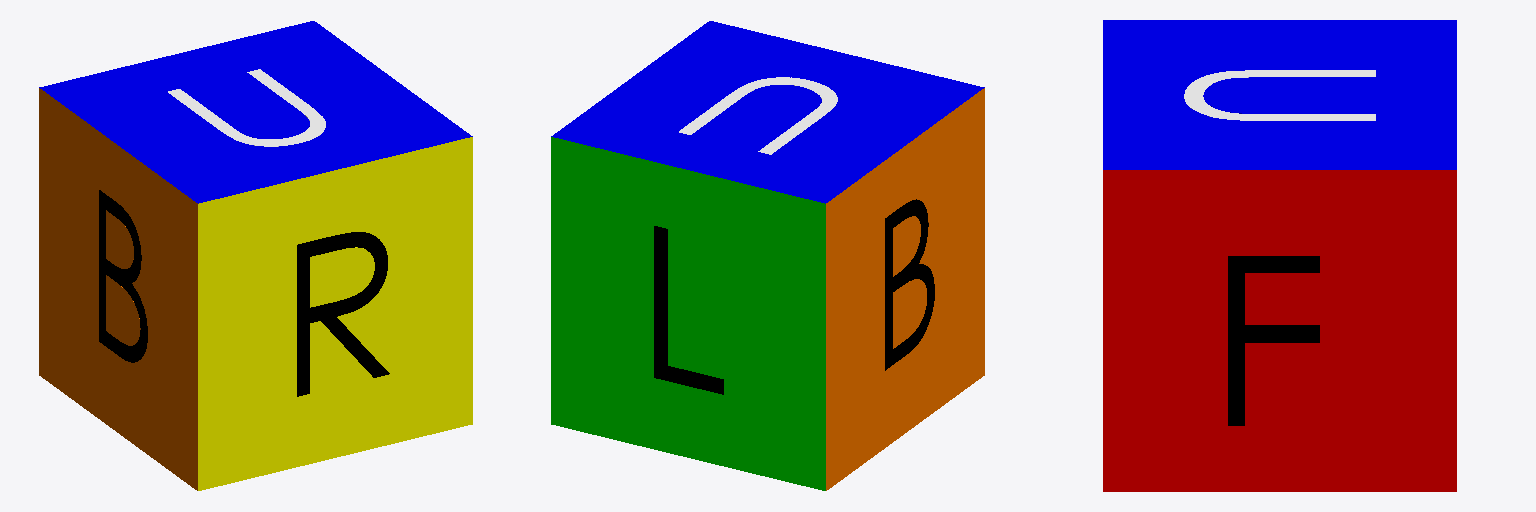
robot.urdf — dice:
<?xml version="1.0" encoding="utf-8"?>
<!-- This URDF was automatically created by SolidWorks to URDF Exporter! Originally created by [author] ([email redacted]) 
     Commit Version: 1.6.0-1-g15f4949  Build Version: 1.6.7594.29634
     For more information, please see http://wiki.ros.org/sw_urdf_exporter -->
<robot
  name="dice">
  <link
    name="base_link">
    <inertial>
      <origin
        xyz="-2.66766240138851E-18 0 1.73472347597681E-18"
        rpy="0 0 0" />
      <mass
        value="0.001" />
      <inertia
        ixx="1.66666666666667E-08"
        ixy="-8.67077671120512E-25"
        ixz="-3.44041988923179E-25"
        iyy="1.66666666666667E-08"
        iyz="-3.78038207477916E-25"
        izz="1.66666666666667E-08" />
    </inertial>
    <visual>
      <origin
        xyz="0 0 0"
        rpy="0 0 0" />
      <geometry>
        <mesh
          filename="package://dice/meshes/base_link.STL" />
      </geometry>
      <material
        name="">
        <color
          rgba="0.792156862745098 0.819607843137255 0.933333333333333 1" />
      </material>
    </visual>
    <collision>
      <origin
        xyz="0 0 0"
        rpy="0 0 0" />
      <geometry>
        <mesh
          filename="package://dice/meshes/base_link.STL" />
      </geometry>
    </collision>
  </link>
  <link
    name="link_F">
    <inertial>
      <origin
        xyz="-9.50512573988481E-05 4.92688674394559E-05 -0.00351193570807691"
        rpy="0 0 0" />
      <mass
        value="0.00411752113638231" />
      <inertia
        ixx="2.24591411192829E-07"
        ixy="4.1775457465822E-10"
        ixz="3.96046905828484E-10"
        iyy="2.27172193413413E-07"
        iyz="-2.05286947664401E-10"
        izz="3.96928952994179E-07" />
    </inertial>
    <visual>
      <origin
        xyz="0 0 0"
        rpy="0 0 0" />
      <geometry>
        <mesh
          filename="package://dice/meshes/link_F.STL" />
      </geometry>
      <material
        name="red">
        <color
          rgba="1 0 0 1" />
      </material>
    </visual>
    <collision>
      <origin
        xyz="0 0 0"
        rpy="0 0 0" />
      <geometry>
        <mesh
          filename="package://dice/meshes/link_F.STL" />
      </geometry>
    </collision>
  </link>
  <joint
    name="joint_F"
    type="fixed">
    <origin
      xyz="0.015 0 0"
      rpy="-1.5707963267949 0 -1.5707963267949" />
    <parent
      link="base_link" />
    <child
      link="link_F" />
    <axis
      xyz="0 0 0" />
  </joint>
  <link
    name="link_letter_F">
    <inertial>
      <origin
        xyz="-0.00181350065894689 0.000940009906361396 -0.0025"
        rpy="0 0 0" />
      <mass
        value="0.000215812196951019" />
      <inertia
        ixx="4.74149938848785E-09"
        ixy="-8.049341101153E-10"
        ixz="1.38286838893634E-26"
        iyy="1.61444722525123E-09"
        iyz="-2.27586779268183E-25"
        izz="5.45672912644316E-09" />
    </inertial>
    <visual>
      <origin
        xyz="0 0 0"
        rpy="0 0 0" />
      <geometry>
        <mesh
          filename="package://dice/meshes/link_letter_F.STL" />
      </geometry>
      <material
        name="black">
        <color
          rgba="0 0 0 1" />
      </material>
    </visual>
    <collision>
      <origin
        xyz="0 0 0"
        rpy="0 0 0" />
      <geometry>
        <mesh
          filename="package://dice/meshes/link_letter_F.STL" />
      </geometry>
    </collision>
  </link>
  <joint
    name="joint_letter_F"
    type="fixed">
    <origin
      xyz="0 0 0"
      rpy="0 0 -3.14159265358979" />
    <parent
      link="link_F" />
    <child
      link="link_letter_F" />
    <axis
      xyz="0 0 0" />
  </joint>
  <link
    name="link_B">
    <inertial>
      <origin
        xyz="1.94927574249588E-05 -7.81931638434252E-05 0.00354516982610781"
        rpy="0 0 0" />
      <mass
        value="0.0039866290374869" />
      <inertia
        ixx="2.20094886421421E-07"
        ixy="2.78909724079855E-10"
        ixz="8.13467845835244E-11"
        iyy="2.25751803876546E-07"
        iyz="-3.25937949196092E-10"
        izz="3.91834477384909E-07" />
    </inertial>
    <visual>
      <origin
        xyz="0 0 0"
        rpy="0 0 0" />
      <geometry>
        <mesh
          filename="package://dice/meshes/link_B.STL" />
      </geometry>
      <material
        name="orange">
        <color
          rgba="1 0.498 0 1" />
      </material>
    </visual>
    <collision>
      <origin
        xyz="0 0 0"
        rpy="0 0 0" />
      <geometry>
        <mesh
          filename="package://dice/meshes/link_B.STL" />
      </geometry>
    </collision>
  </link>
  <joint
    name="joint_B"
    type="fixed">
    <origin
      xyz="-0.015 0 0"
      rpy="1.5707963267949 0 1.5707963267949" />
    <parent
      link="base_link" />
    <child
      link="link_B" />
    <axis
      xyz="0 0 0" />
  </joint>
  <link
    name="link_letter_B">
    <inertial>
      <origin
        xyz="0.000225151490672439 -0.000901444768498538 0.00250001505244807"
        rpy="0 0 0" />
      <mass
        value="0.000346813932855846" />
      <inertia
        ixx="8.99761241320047E-09"
        ixy="-3.52365205874907E-10"
        ixz="5.5591649616148E-15"
        iyy="3.62562344499346E-09"
        iyz="-2.57589182593363E-14"
        izz="1.11782203674508E-08" />
    </inertial>
    <visual>
      <origin
        xyz="0 0 0"
        rpy="0 0 0" />
      <geometry>
        <mesh
          filename="package://dice/meshes/link_letter_B.STL" />
      </geometry>
      <material
        name="black">
        <color
          rgba="0 0 0 1" />
      </material>
    </visual>
    <collision>
      <origin
        xyz="0 0 0"
        rpy="0 0 0" />
      <geometry>
        <mesh
          filename="package://dice/meshes/link_letter_B.STL" />
      </geometry>
    </collision>
  </link>
  <joint
    name="joint_letter_B"
    type="fixed">
    <origin
      xyz="0 0 0"
      rpy="0 0 3.14159265358979" />
    <parent
      link="link_B" />
    <child
      link="link_letter_B" />
    <axis
      xyz="0 0 0" />
  </joint>
  <link
    name="link_L">
    <inertial>
      <origin
        xyz="-7.26717053836479E-05 6.9109794379726E-05 0.00349907074228167"
        rpy="0 0 0" />
      <mass
        value="0.00417054217517258" />
      <inertia
        ixx="2.24579816896208E-07"
        ixy="3.68564469772318E-10"
        ixz="-3.02798772431858E-10"
        iyy="2.2799869045033E-07"
        iyz="2.8795747658216E-10"
        izz="3.97415726691221E-07" />
    </inertial>
    <visual>
      <origin
        xyz="0 0 0"
        rpy="0 0 0" />
      <geometry>
        <mesh
          filename="package://dice/meshes/link_L.STL" />
      </geometry>
      <material
        name="green">
        <color
          rgba="0 1 0 1" />
      </material>
    </visual>
    <collision>
      <origin
        xyz="0 0 0"
        rpy="0 0 0" />
      <geometry>
        <mesh
          filename="package://dice/meshes/link_L.STL" />
      </geometry>
    </collision>
  </link>
  <joint
    name="joint_L"
    type="fixed">
    <origin
      xyz="0 0.015 0"
      rpy="1.5707963267949 0 0" />
    <parent
      link="base_link" />
    <child
      link="link_L" />
    <axis
      xyz="0 0 0" />
  </joint>
  <link
    name="link_letter_L">
    <inertial>
      <origin
        xyz="-0.00186177440880996 -0.0017705219093871 -0.0025"
        rpy="0 0 0" />
      <mass
        value="0.00016279115816075" />
      <inertia
        ixx="4.47715992217448E-09"
        ixy="9.26120804927491E-10"
        ixz="3.19323213218057E-25"
        iyy="1.00222206440924E-09"
        iyz="-4.45706747723961E-26"
        izz="4.80108549424727E-09" />
    </inertial>
    <visual>
      <origin
        xyz="0 0 0"
        rpy="0 0 0" />
      <geometry>
        <mesh
          filename="package://dice/meshes/link_letter_L.STL" />
      </geometry>
      <material
        name="black">
        <color
          rgba="0 0 0 1" />
      </material>
    </visual>
    <collision>
      <origin
        xyz="0 0 0"
        rpy="0 0 0" />
      <geometry>
        <mesh
          filename="package://dice/meshes/link_letter_L.STL" />
      </geometry>
    </collision>
  </link>
  <joint
    name="joint_letter_L"
    type="fixed">
    <origin
      xyz="0 0 0"
      rpy="3.14159265358979 0 3.14159265358979" />
    <parent
      link="link_L" />
    <child
      link="link_letter_L" />
    <axis
      xyz="0 0 0" />
  </joint>
  <link
    name="link_R">
    <inertial>
      <origin
        xyz="4.07208019225084E-06 -9.46811327945319E-05 0.00354091263991495"
        rpy="0 0 0" />
      <mass
        value="0.0040028736788808" />
      <inertia
        ixx="2.21225318375563E-07"
        ixy="-1.72199688799733E-10"
        ixz="1.68852294481576E-11"
        iyy="2.25392434040849E-07"
        iyz="-3.94464690581226E-10"
        izz="3.92502204652984E-07" />
    </inertial>
    <visual>
      <origin
        xyz="0 0 0"
        rpy="0 0 0" />
      <geometry>
        <mesh
          filename="package://dice/meshes/link_R.STL" />
      </geometry>
      <material
        name="yellow">
        <color
          rgba="1 1 0 1" />
      </material>
    </visual>
    <collision>
      <origin
        xyz="0 0 0"
        rpy="0 0 0" />
      <geometry>
        <mesh
          filename="package://dice/meshes/link_R.STL" />
      </geometry>
    </collision>
  </link>
  <joint
    name="joint_R"
    type="fixed">
    <origin
      xyz="0 -0.015 0"
      rpy="1.5707963267949 0 3.14159265358979" />
    <parent
      link="base_link" />
    <child
      link="link_R" />
    <axis
      xyz="0 0 0" />
  </joint>
  <link
    name="link_letter_R">
    <inertial>
      <origin
        xyz="4.84262186075055E-05 0.00114631655590035 -0.00249997381541772"
        rpy="0 0 0" />
      <mass
        value="0.000330397797517397" />
      <inertia
        ixx="7.71637305365668E-09"
        ixy="-1.51008081448684E-10"
        ixz="-3.05343836971532E-14"
        iyy="4.01814143157033E-09"
        iyz="-7.66018160442713E-14"
        izz="1.03577451336102E-08" />
    </inertial>
    <visual>
      <origin
        xyz="0 0 0"
        rpy="0 0 0" />
      <geometry>
        <mesh
          filename="package://dice/meshes/link_letter_R.STL" />
      </geometry>
      <material
        name="black">
        <color
          rgba="0 0 0 1" />
      </material>
    </visual>
    <collision>
      <origin
        xyz="0 0 0"
        rpy="0 0 0" />
      <geometry>
        <mesh
          filename="package://dice/meshes/link_letter_R.STL" />
      </geometry>
    </collision>
  </link>
  <joint
    name="joint_letter_R"
    type="fixed">
    <origin
      xyz="0 0 0"
      rpy="-3.14159265358979 0 3.14159265358979" />
    <parent
      link="link_R" />
    <child
      link="link_letter_R" />
    <axis
      xyz="0 0 0" />
  </joint>
  <link
    name="link_U">
    <inertial>
      <origin
        xyz="3.26036309539202E-06 5.24661179217773E-05 0.00352418792456442"
        rpy="0 0 0" />
      <mass
        value="0.00406827782939128" />
      <inertia
        ixx="2.22348800183004E-07"
        ixy="-4.87811881417785E-12"
        ixz="1.34925868413748E-11"
        iyy="2.24867386424086E-07"
        iyz="2.18716156107312E-10"
        izz="3.92688856232812E-07" />
    </inertial>
    <visual>
      <origin
        xyz="0 0 0"
        rpy="0 0 0" />
      <geometry>
        <mesh
          filename="package://dice/meshes/link_U.STL" />
      </geometry>
      <material
        name="blue">
        <color
          rgba="0 0 1 1" />
      </material>
    </visual>
    <collision>
      <origin
        xyz="0 0 0"
        rpy="0 0 0" />
      <geometry>
        <mesh
          filename="package://dice/meshes/link_U.STL" />
      </geometry>
    </collision>
  </link>
  <joint
    name="joint_U"
    type="fixed">
    <origin
      xyz="0 0 0.015"
      rpy="-3.14159265358979 0 3.14159265358979" />
    <parent
      link="base_link" />
    <child
      link="link_U" />
    <axis
      xyz="0 0 0" />
  </joint>
  <link
    name="link_letter_U">
    <inertial>
      <origin
        xyz="4.99776081315758E-05 -0.000805769148246406 -0.00250003965080142"
        rpy="0 0 0" />
      <mass
        value="0.00026506309406237" />
      <inertia
        ixx="6.95135122252641E-09"
        ixy="-1.65877323851595E-11"
        ixz="2.35461602000937E-14"
        iyy="4.61401901538874E-09"
        iyz="-3.97395234832372E-14"
        izz="1.04609430636761E-08" />
    </inertial>
    <visual>
      <origin
        xyz="0 0 0"
        rpy="0 0 0" />
      <geometry>
        <mesh
          filename="package://dice/meshes/link_letter_U.STL" />
      </geometry>
      <material
        name="white">
        <color
          rgba="1 1 1 1" />
      </material>
    </visual>
    <collision>
      <origin
        xyz="0 0 0"
        rpy="0 0 0" />
      <geometry>
        <mesh
          filename="package://dice/meshes/link_letter_U.STL" />
      </geometry>
    </collision>
  </link>
  <joint
    name="joint_letter_U"
    type="fixed">
    <origin
      xyz="0 0 0"
      rpy="-3.14159265358979 0 3.14159265358979" />
    <parent
      link="link_U" />
    <child
      link="link_letter_U" />
    <axis
      xyz="0 0 0" />
  </joint>
  <link
    name="link_D">
    <inertial>
      <origin
        xyz="-3.71350332799622E-05 -5.47256362516592E-05 0.00354710064885572"
        rpy="0 0 0" />
      <mass
        value="0.00397923436342819" />
      <inertia
        ixx="2.1807910831628E-07"
        ixy="1.92238618844472E-10"
        ixz="-1.54682719103127E-10"
        iyy="2.21564250025753E-07"
        iyz="-2.27940317252461E-10"
        izz="3.85677921303229E-07" />
    </inertial>
    <visual>
      <origin
        xyz="0 0 0"
        rpy="0 0 0" />
      <geometry>
        <mesh
          filename="package://dice/meshes/link_D.STL" />
      </geometry>
      <material
        name="purple">
        <color
          rgba="0.294 0 0.509 1" />
      </material>
    </visual>
    <collision>
      <origin
        xyz="0 0 0"
        rpy="0 0 0" />
      <geometry>
        <mesh
          filename="package://dice/meshes/link_D.STL" />
      </geometry>
    </collision>
  </link>
  <joint
    name="joint_D"
    type="fixed">
    <origin
      xyz="0 0 -0.015"
      rpy="0 0 0" />
    <parent
      link="base_link" />
    <child
      link="link_D" />
    <axis
      xyz="0 0 0" />
  </joint>
  <link
    name="link_letter_D">
    <inertial>
      <origin
        xyz="-0.00041734 0.00061475 -0.0025"
        rpy="0 0 0" />
      <mass
        value="0.00035406" />
      <inertia
        ixx="1.116E-08"
        ixy="9.4068E-11"
        ixz="4.0081E-14"
        iyy="7.7565E-09"
        iyz="-4.0819E-14"
        izz="1.7441E-08" />
    </inertial>
    <visual>
      <origin
        xyz="0 0 0"
        rpy="0 0 0" />
      <geometry>
        <mesh
          filename="package://dice/meshes/link_letter_D.STL" />
      </geometry>
      <material
        name="white">
        <color
          rgba="1 1 1 1" />
      </material>
    </visual>
    <collision>
      <origin
        xyz="0 0 0"
        rpy="0 0 0" />
      <geometry>
        <mesh
          filename="package://dice/meshes/link_letter_D.STL" />
      </geometry>
    </collision>
  </link>
  <joint
    name="joint_letter_D"
    type="fixed">
    <origin
      xyz="0 0 0"
      rpy="3.14159265358979 0 -3.14159265358979" />
    <parent
      link="link_D" />
    <child
      link="link_letter_D" />
    <axis
      xyz="0 0 0" />
  </joint>
</robot>

--- Facts derived from the render (not from the file) ---
Views: 3 orthographic renders of the robot side by side, from view 1: azimuth 30°, elevation 25°; view 2: azimuth 150°, elevation 25°; view 3: azimuth 270°, elevation 25°.
Robot: dice — 13 links, 12 joints (12 fixed); root link base_link; default pose: all joints at 0.
Links seen in each view (by area): view 1: link_R, link_B, link_U, link_letter_R, link_letter_B, link_letter_U; view 2: link_L, link_B, link_U, link_letter_B, link_letter_L, link_letter_U; view 3: link_F, link_U, link_letter_F, link_letter_U.
Link boxes in pixels (left/top/right/bottom): link_R: left=198, top=137, right=472, bottom=490; link_B: left=39, top=88, right=197, bottom=490; link_U: left=39, top=21, right=472, bottom=203; link_letter_R: left=297, top=232, right=389, bottom=396; link_letter_B: left=99, top=190, right=147, bottom=362; link_letter_U: left=168, top=69, right=325, bottom=146; link_L: left=551, top=137, right=825, bottom=490; link_B: left=826, top=88, right=984, bottom=490; link_U: left=551, top=21, right=984, bottom=203; link_letter_B: left=885, top=199, right=934, bottom=370; link_letter_L: left=654, top=226, right=723, bottom=394; link_letter_U: left=679, top=77, right=837, bottom=154; link_F: left=1103, top=170, right=1456, bottom=491; link_U: left=1103, top=20, right=1456, bottom=169; link_letter_F: left=1228, top=256, right=1319, bottom=425; link_letter_U: left=1184, top=70, right=1375, bottom=120.
Bounding box of the posed robot: 0.03 × 0.03 × 0.03 m (x, y, z).
13 mesh visuals loaded from 13 distinct referenced files (13 binary STL).